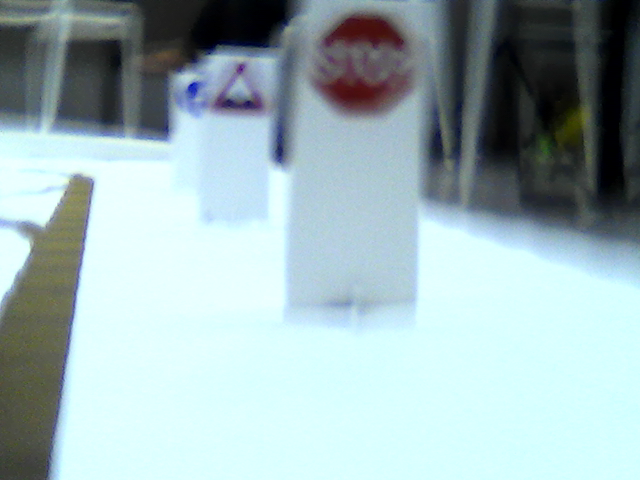Stop: (317, 12, 416, 120)
